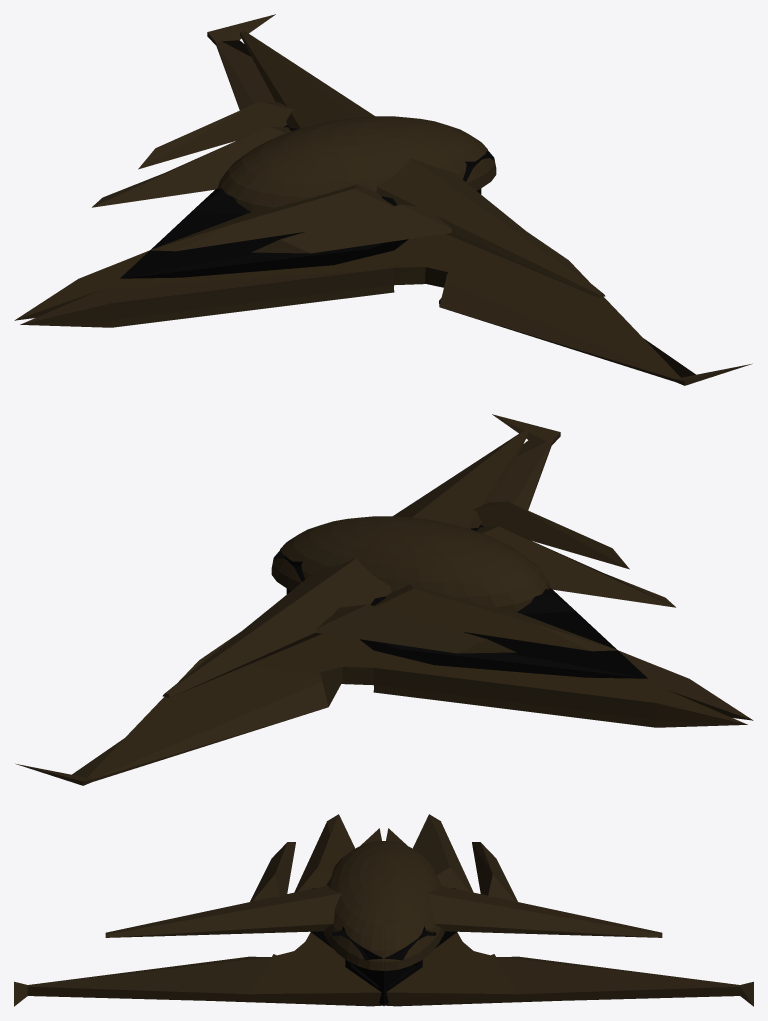
Rendered from sanctuaryII.fbx.
3 views of the same model, one above another, from view 1: azimuth 30°, elevation 25°; view 2: azimuth 150°, elevation 25°; view 3: azimuth 270°, elevation 25° (orthographic). The views are drawn at different scales.
Visible parts, largest first — view 1: Circle; view 2: Circle; view 3: Circle.
Boxes of the visible parts, x1,y1,x2,y2 form: Circle: [14, 14, 752, 385]; Circle: [15, 414, 753, 785]; Circle: [14, 814, 753, 1006].
Size of the model in its own units: 2515 by 379 by 1516.
